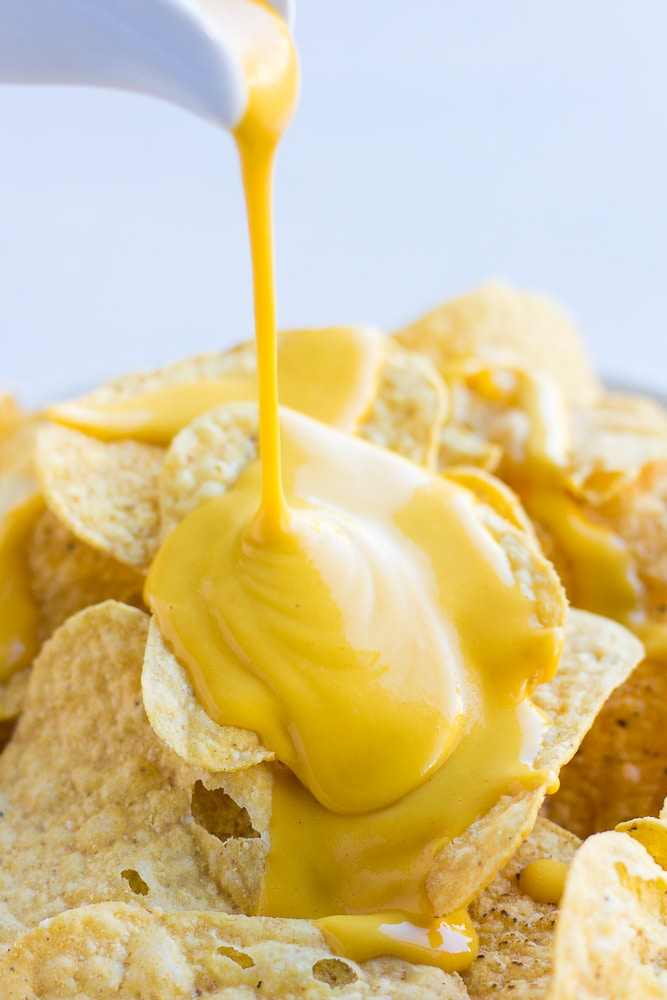cheese: (203, 66, 550, 792)
